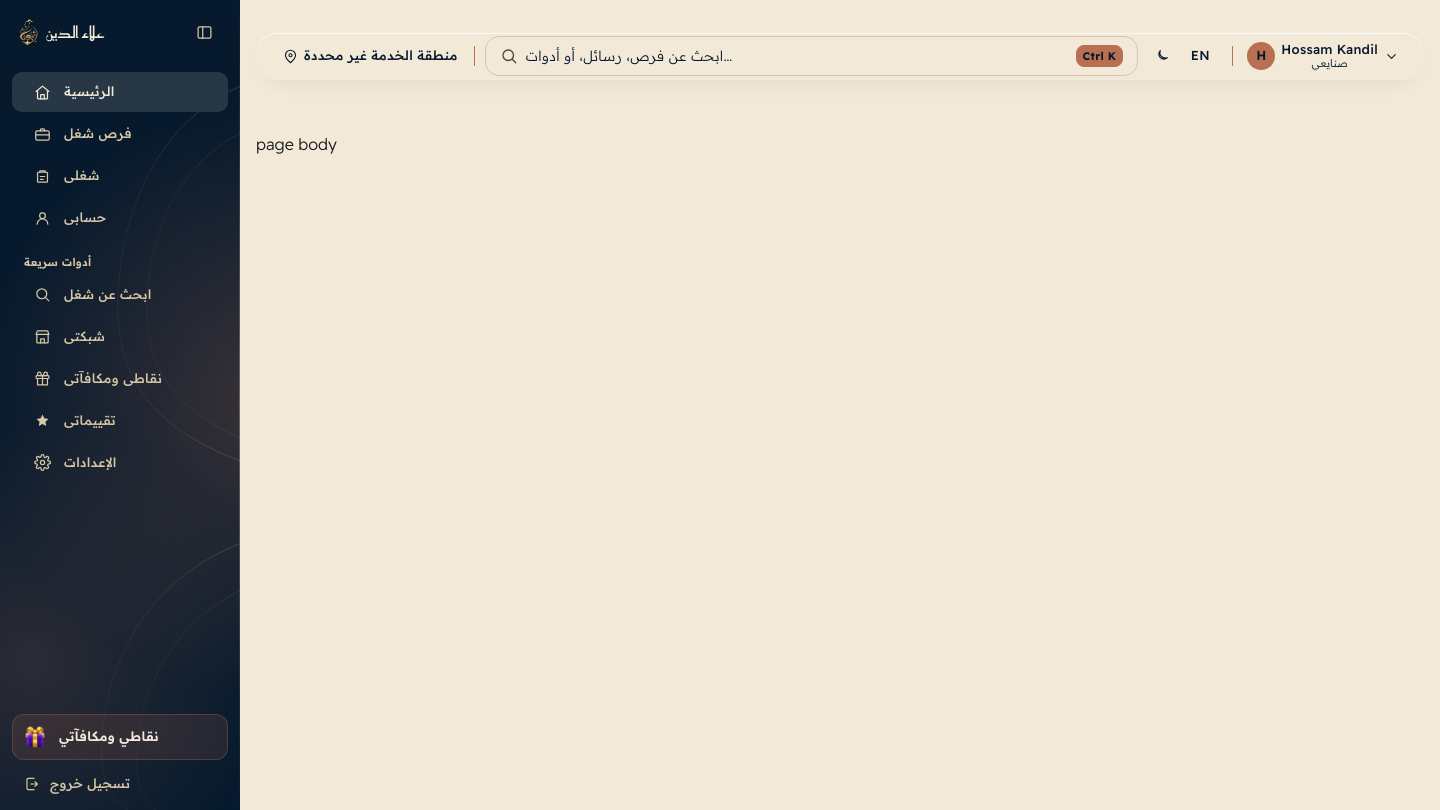
/home layout — workspace switcher scope and account label › installer_technician (craftsman) › keeps the profile menu: My profile, Settings and Sign out
Click the button with test id "profile-menu-trigger" at (1323, 56), box [1243, 37, 1403, 75]
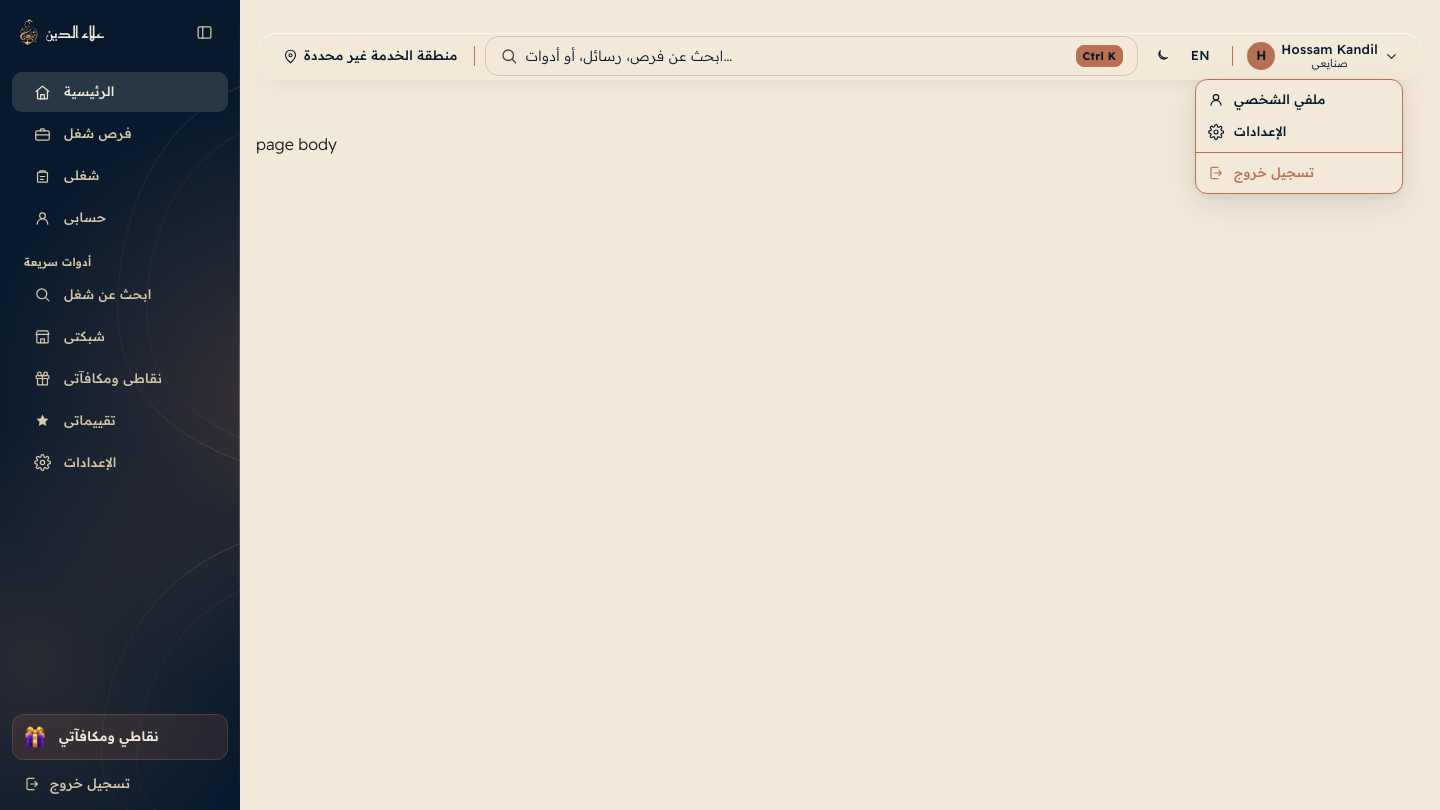
Result: the menu items read "ملفي الشخصي", "الإعدادات", "تسجيل خروج", in this order at [1208, 91, 1326, 108]; [1208, 123, 1286, 140]; [1196, 157, 1402, 189]
